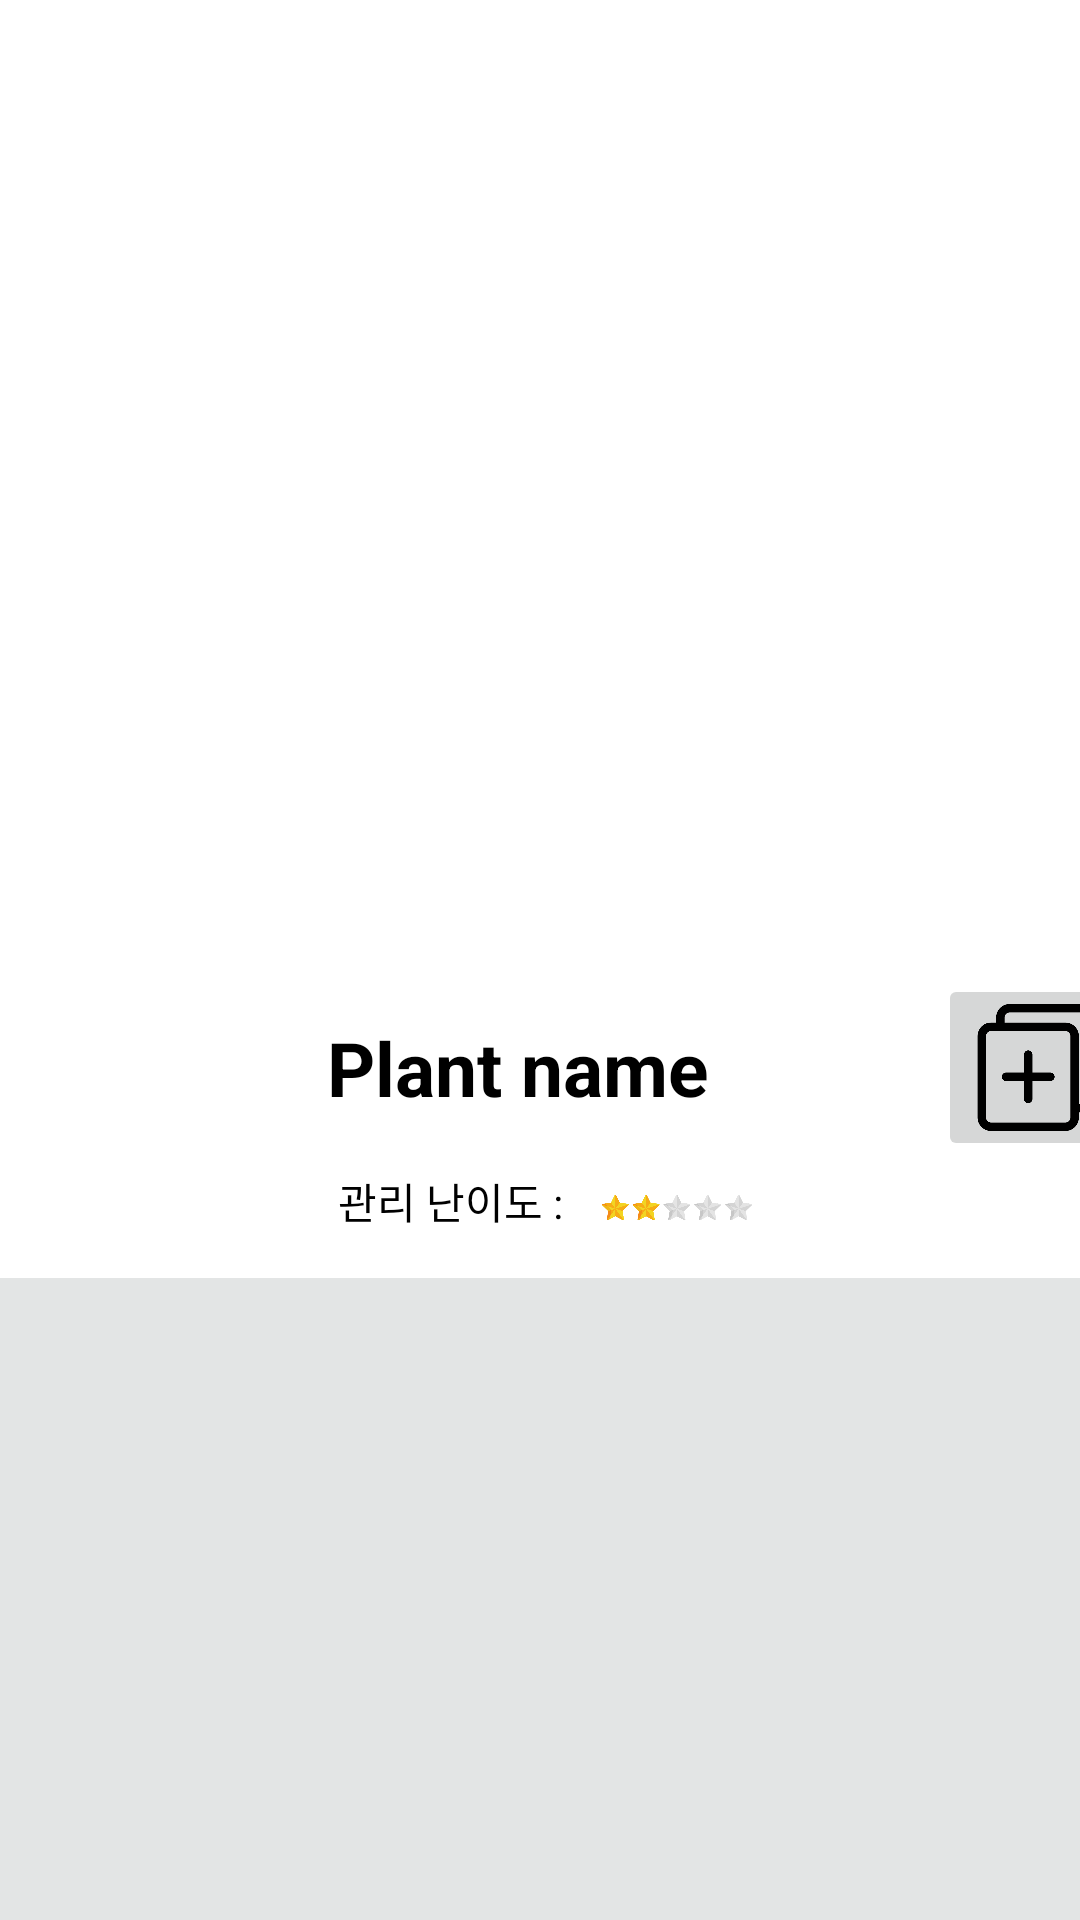

Named icons in this screenshot (1080 × 1920) and their bounding boxes, (x1, y1, x2, y2):
star two: (602, 1195, 752, 1220)
